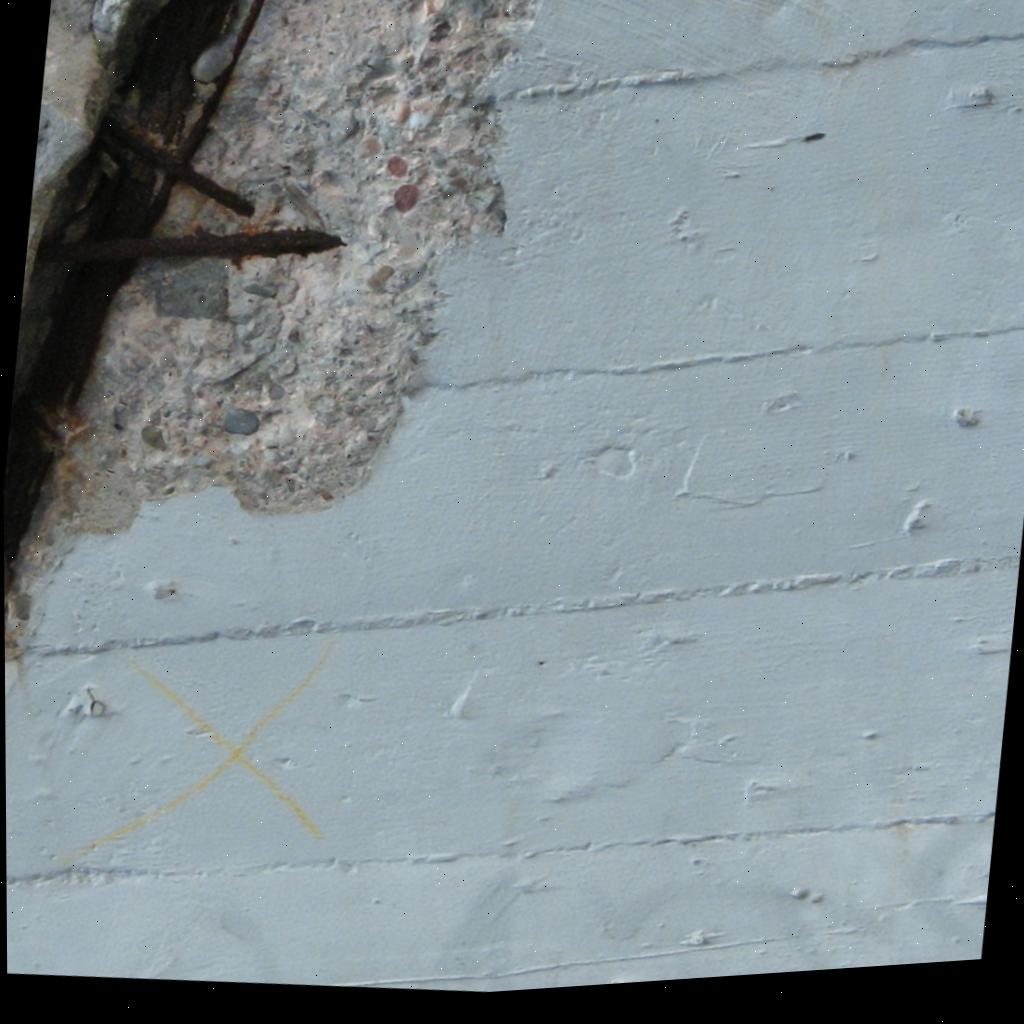exposed_rebar: (40, 0, 343, 262)
spalling: (4, 0, 540, 653), (22, 0, 165, 299)
